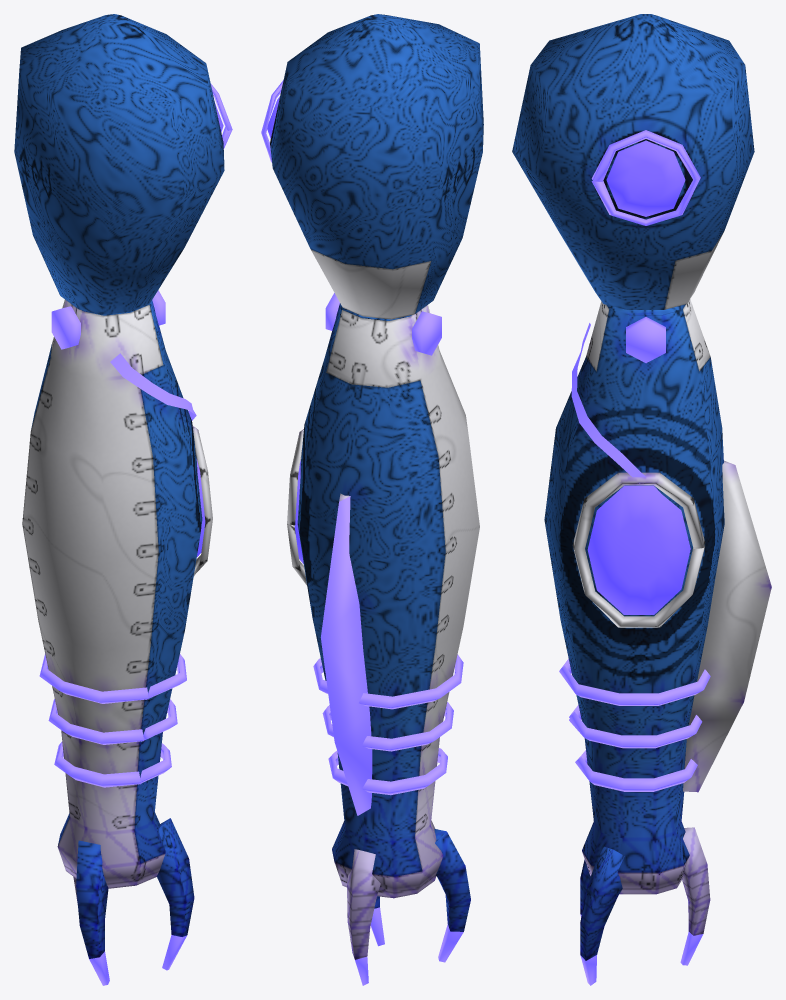
Rendered from RightPlasmaCannonArmZ.glb.
3 renders of one model, left to right at view 1: azimuth 30°, elevation 25°; view 2: azimuth 150°, elevation 25°; view 3: azimuth 270°, elevation 25°, orthographic.
Parts seen in each view (by area): view 1: RightPlasmaCannonArmZ_Fore, RightPlasmaCannonArmZ_Upper; view 2: RightPlasmaCannonArmZ_Fore, RightPlasmaCannonArmZ_Upper; view 3: RightPlasmaCannonArmZ_Fore, RightPlasmaCannonArmZ_Upper.
Boxes of the visible parts, x1,y1,x2,y2 form: RightPlasmaCannonArmZ_Fore: (22,290,212,985); RightPlasmaCannonArmZ_Upper: (14,14,232,314); RightPlasmaCannonArmZ_Fore: (287,293,479,985); RightPlasmaCannonArmZ_Upper: (261,14,483,319); RightPlasmaCannonArmZ_Fore: (544,299,771,985); RightPlasmaCannonArmZ_Upper: (512,14,754,309).
Bounding box in the file's own units: 4.38 × 22.74 × 5.62.
Materials: 5 (3 with a texture image).
